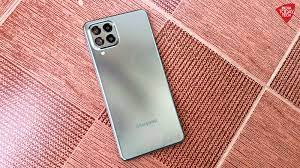phone: (81, 7, 187, 156)
